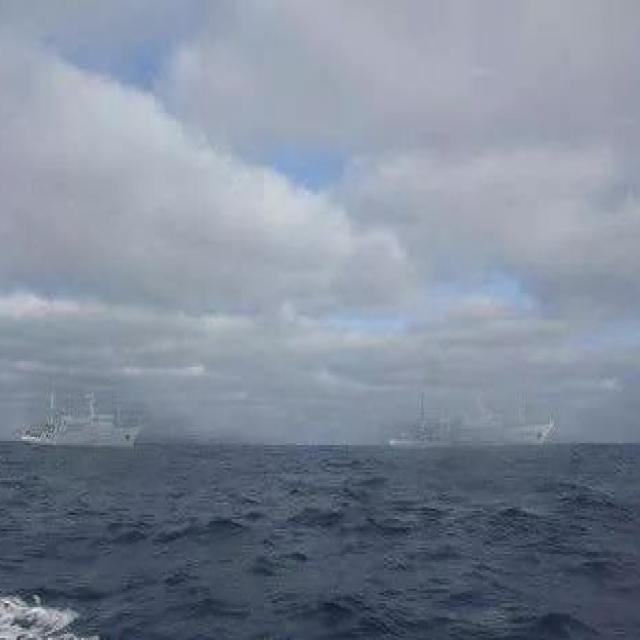passenger ship: (385, 382, 560, 452), (12, 388, 150, 451)
